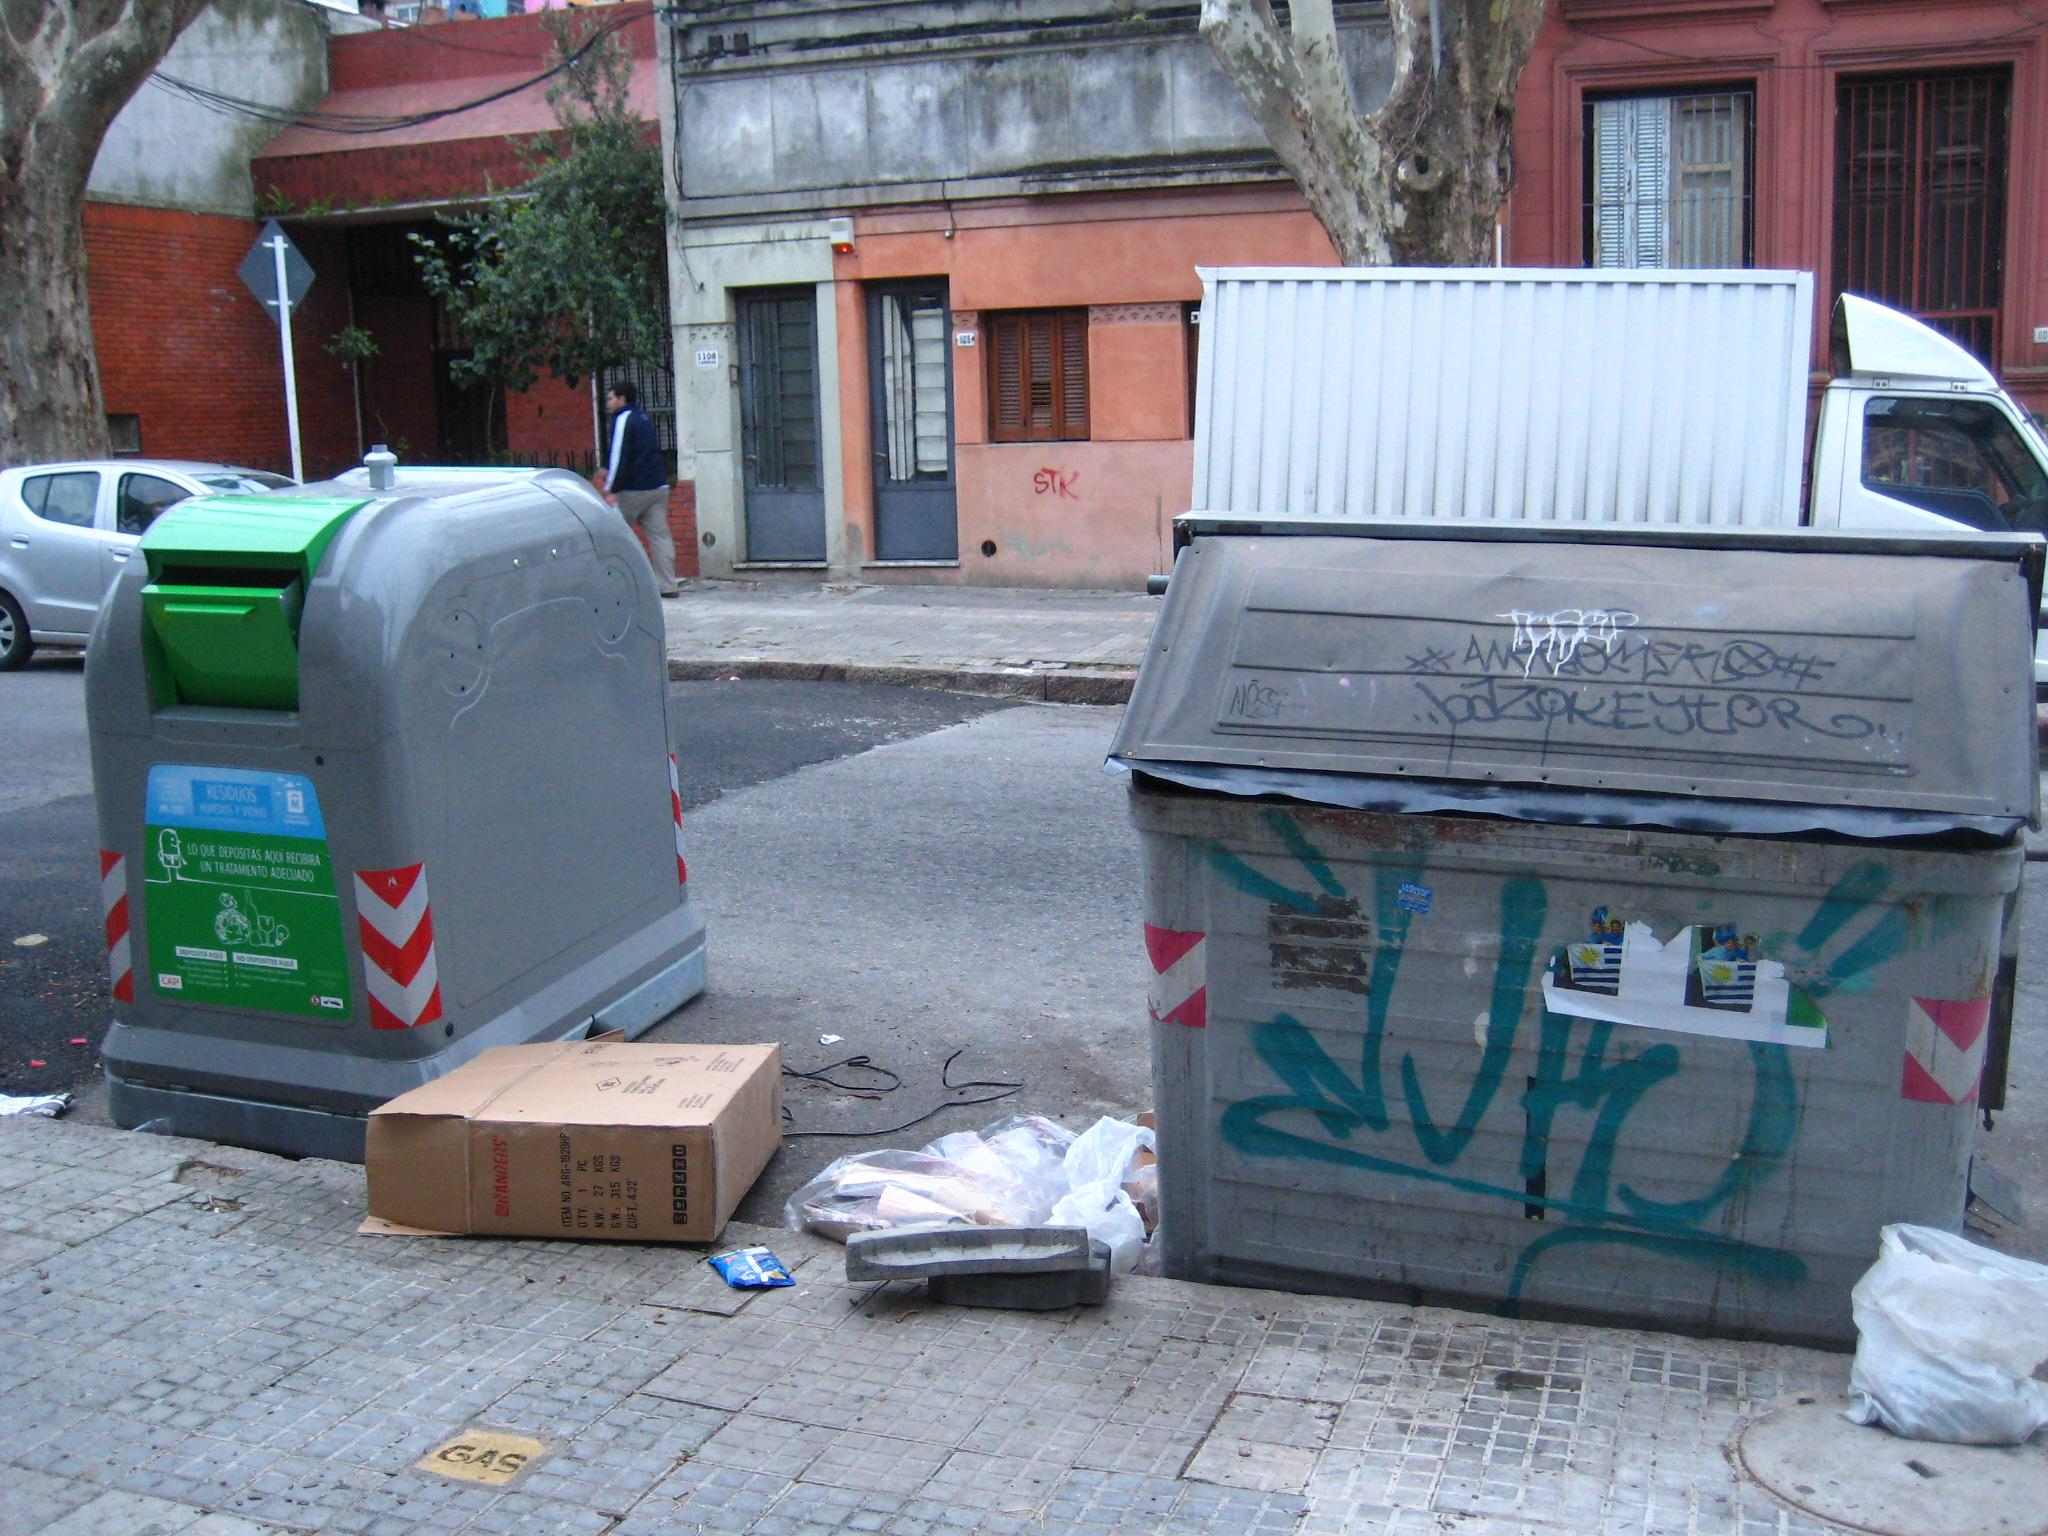Dechets: (356, 1028, 787, 1250), (787, 1113, 1163, 1321), (1846, 1218, 2045, 1438), (703, 1242, 793, 1281), (2, 1083, 74, 1118)
Trash: (1106, 513, 2046, 1368), (73, 458, 698, 1162)
